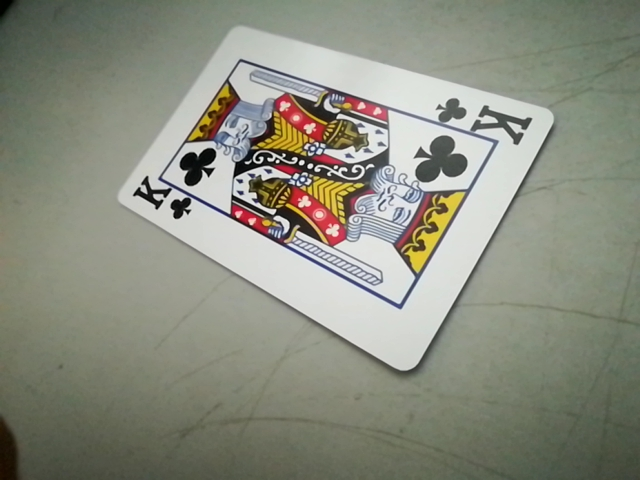mh k: (426, 95, 540, 136), (127, 179, 199, 225)
